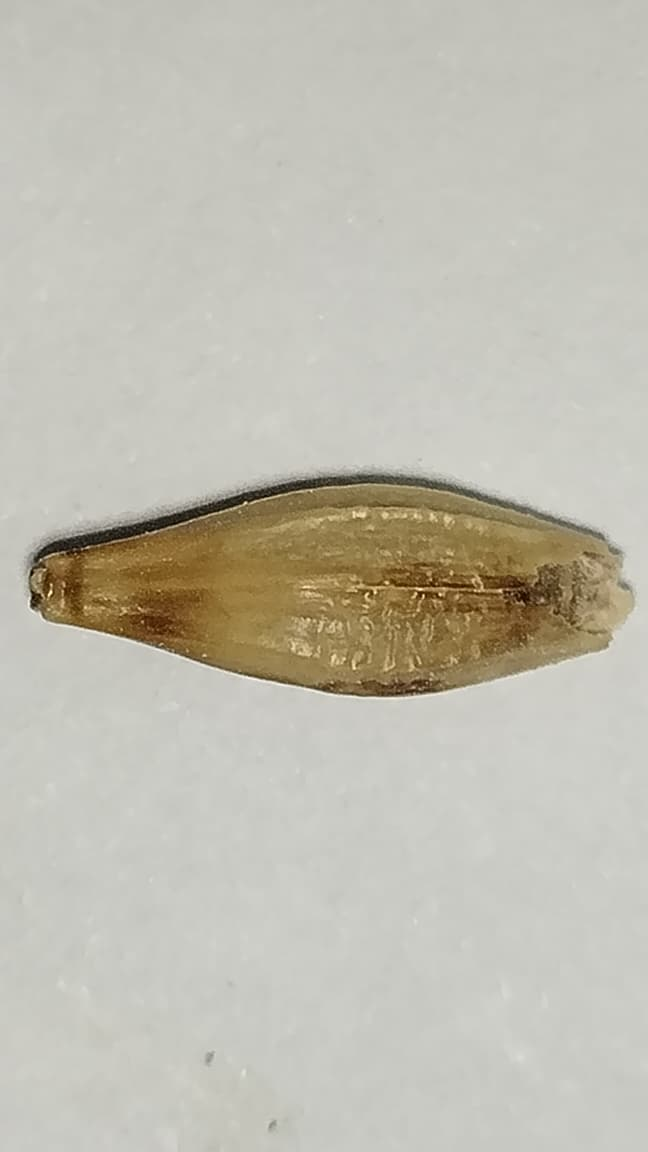healthy-70-60: (31, 483, 631, 695)
insectdamage: (390, 548, 582, 643), (302, 672, 445, 698)
